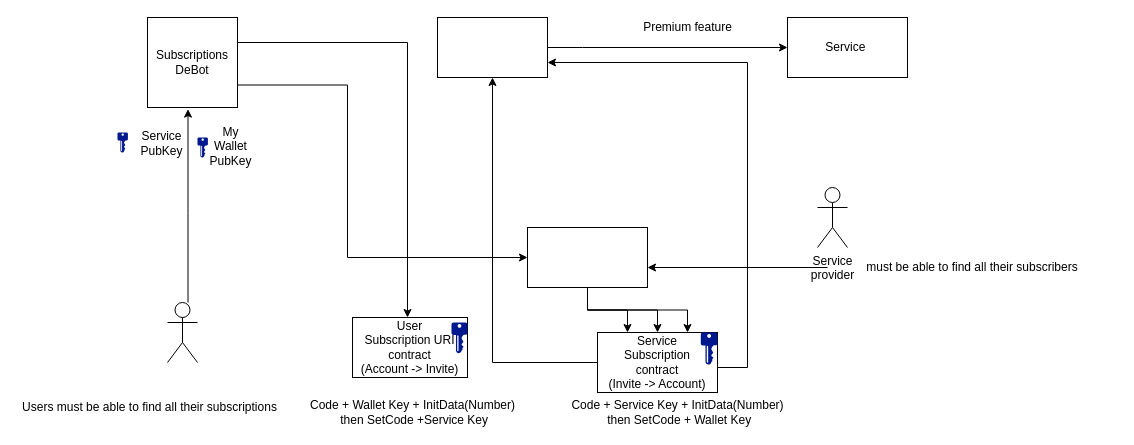
Image size: 1134x445. Some labels were removed from this diagram. Here are the shapes that lost their labels. From the top down, the centre of each, then its label:
At (x=492, y=47): "Wallet".
At (x=587, y=257): "Service Subscription Root (InviteRoot)".
At (x=182, y=332): "User".
